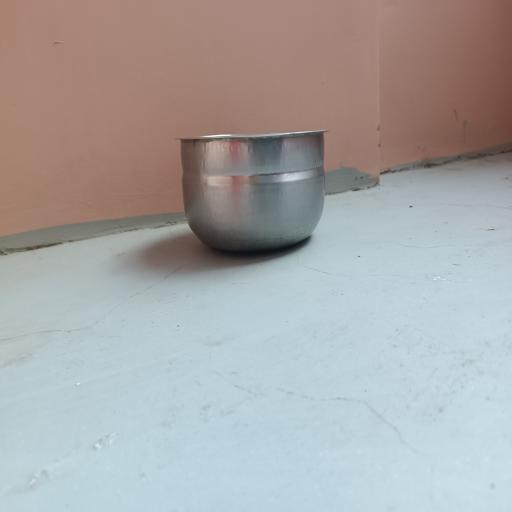vessel: (179, 131, 327, 251)
